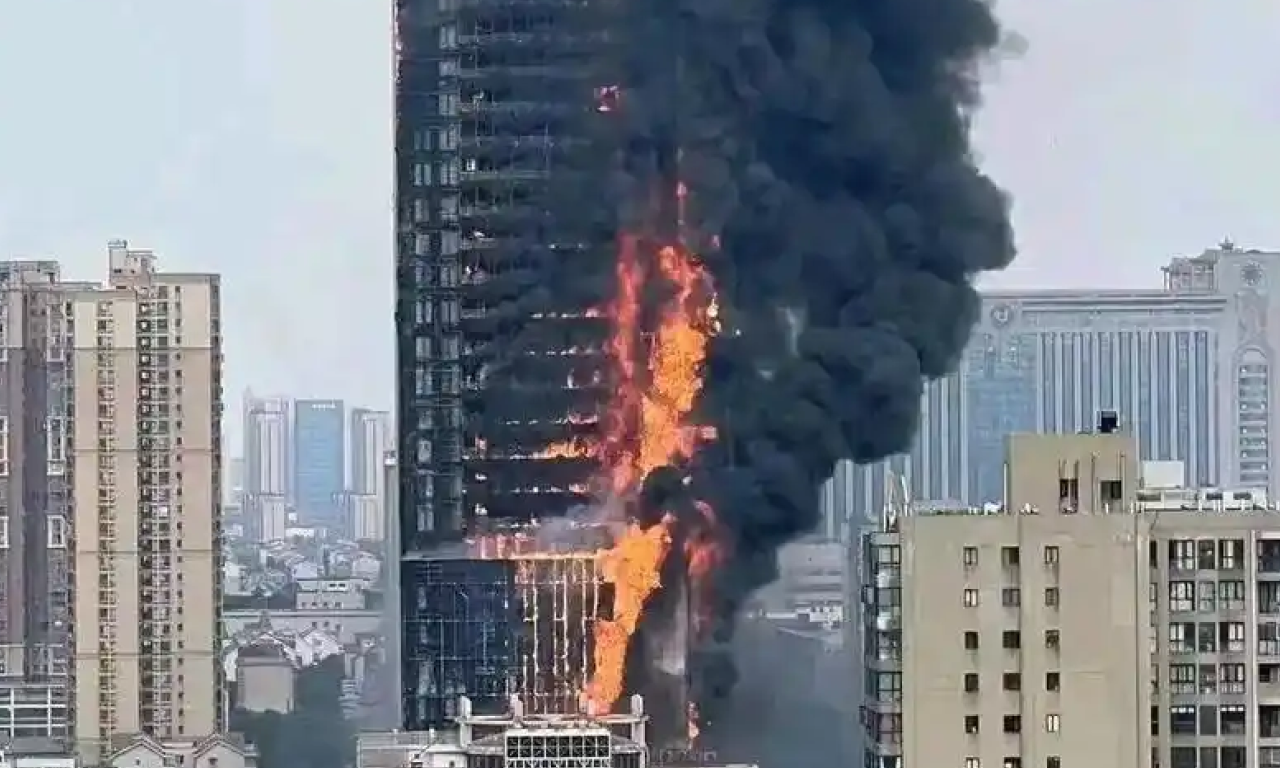fire: (416, 12, 1028, 709)
